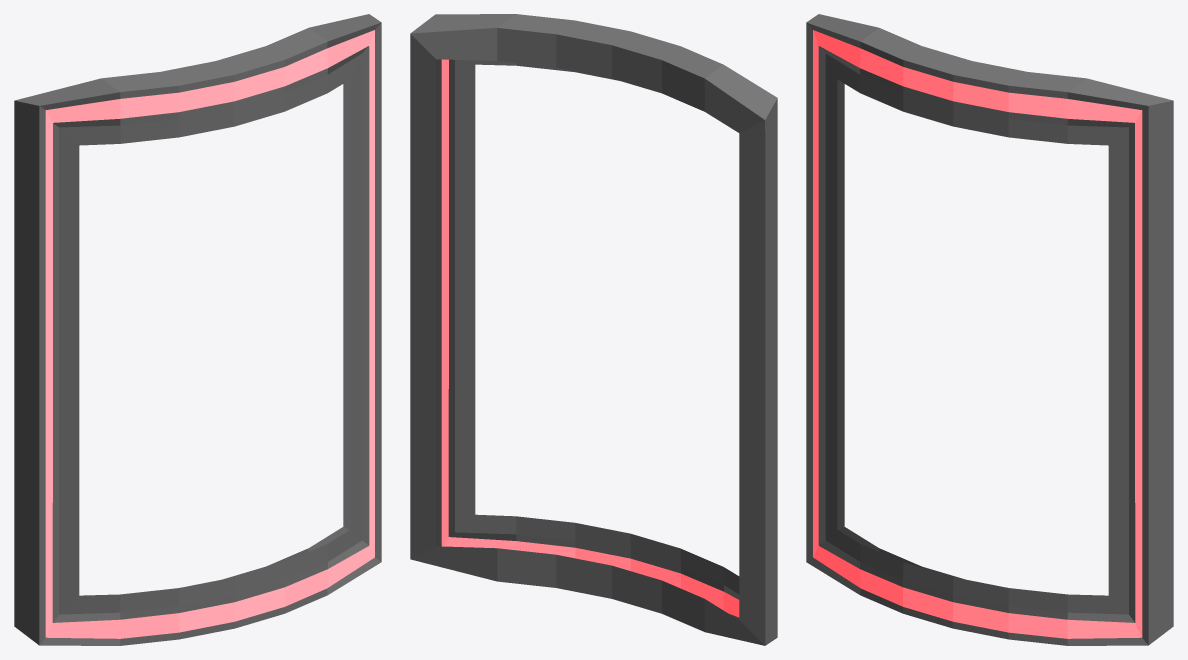
File: RippleDefender fire 1.fbx
3 renders of one model, left to right at view 1: azimuth 30°, elevation 25°; view 2: azimuth 150°, elevation 25°; view 3: azimuth 330°, elevation 25°, orthographic.
Parts seen in each view (by area): view 1: RippleDefender fire 1; view 2: RippleDefender fire 1; view 3: RippleDefender fire 1.
Part boxes in pixels (x1=…): RippleDefender fire 1: x1=14, y1=14, x2=381, y2=645; RippleDefender fire 1: x1=410, y1=14, x2=777, y2=645; RippleDefender fire 1: x1=806, y1=14, x2=1173, y2=645.
Size of the model in its own units: 20.2 by 30.11 by 4.25.
